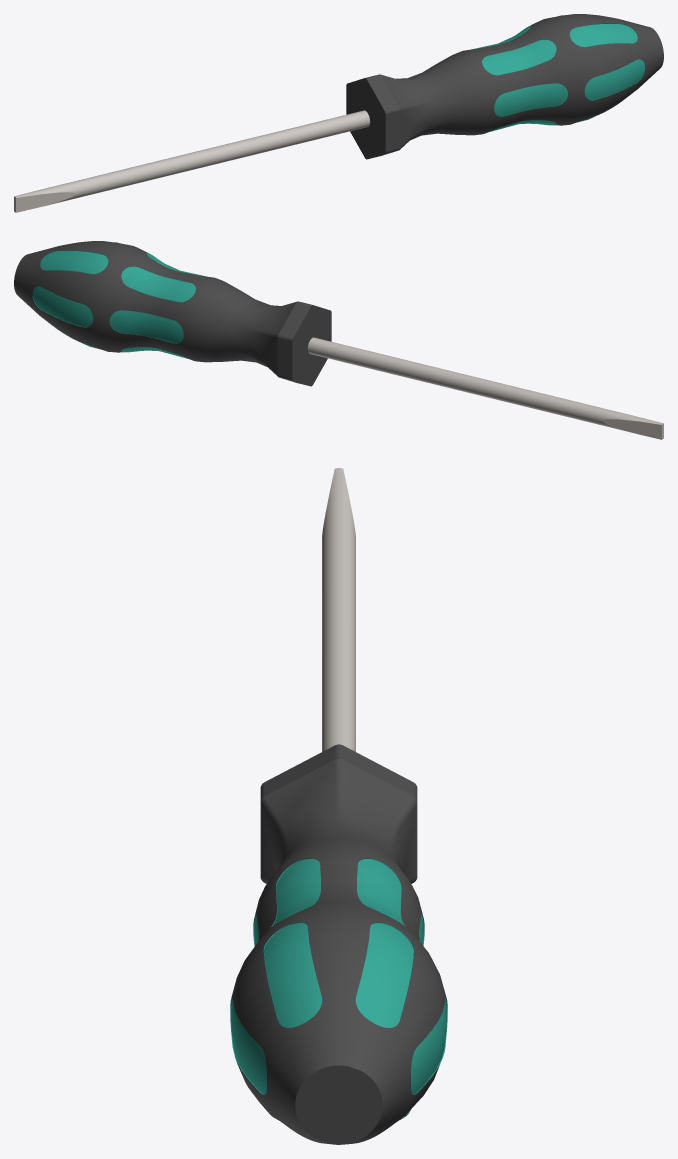
3 views of the same model, one above another, from view 1: azimuth 30°, elevation 25°; view 2: azimuth 150°, elevation 25°; view 3: azimuth 270°, elevation 25° (orthographic). The views are drawn at different scales.
Visible parts, largest first — view 1: Clemero0-1.001, Clemero0.001, Clemero0-2.001; view 2: Clemero0-1.001, Clemero0.001, Clemero0-2.001; view 3: Clemero0-1.001, Clemero0-2.001, Clemero0.001.
Part boxes in pixels (x1,y1,x2,y2): Clemero0-1.001: (346, 14, 663, 159); Clemero0.001: (14, 41, 536, 212); Clemero0-2.001: (471, 15, 645, 132); Clemero0-1.001: (14, 241, 331, 386); Clemero0.001: (307, 337, 663, 439); Clemero0-2.001: (32, 241, 206, 359); Clemero0-1.001: (231, 744, 446, 1144); Clemero0-2.001: (230, 858, 447, 1117); Clemero0.001: (322, 468, 406, 926).
Size of the model in its own units: 1.13 by 0.1673 by 0.1663.
